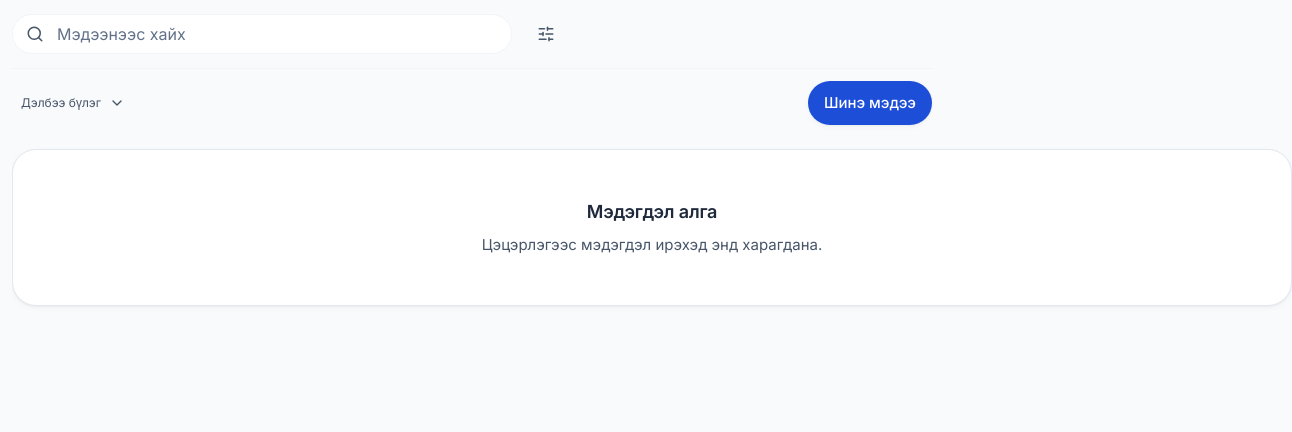
Test: the news filter button › opens every filter the client listed
Click the button named "Шүүлтүүр". click: (546, 34)
box: [524,12,568,56]
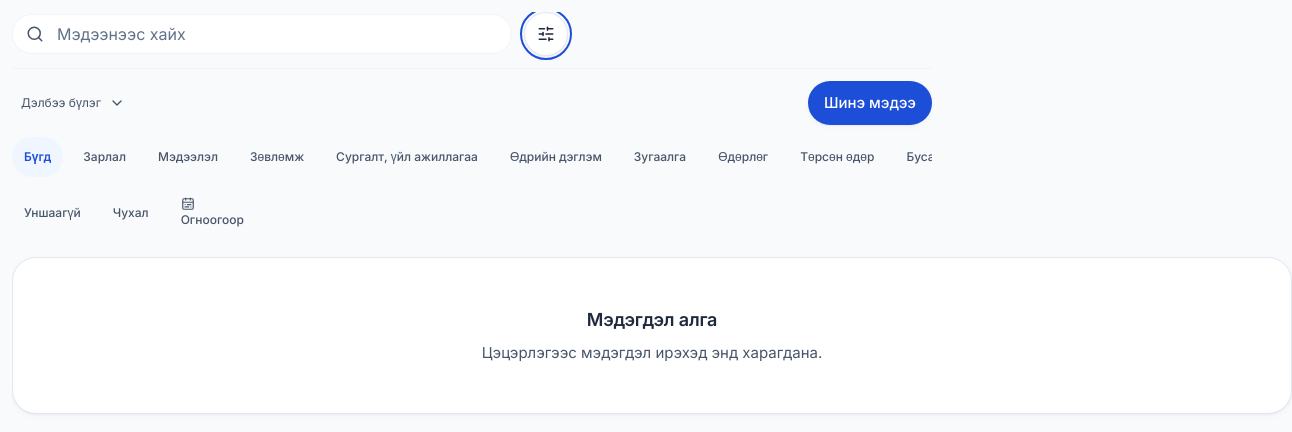
Check: the button "Бүгд" is shown, box [12,137,63,177]
Check: the button "Зарлал" is shown, box [71,137,138,177]
Check: the button "Мэдээлэл" is shown, box [146,137,230,177]
